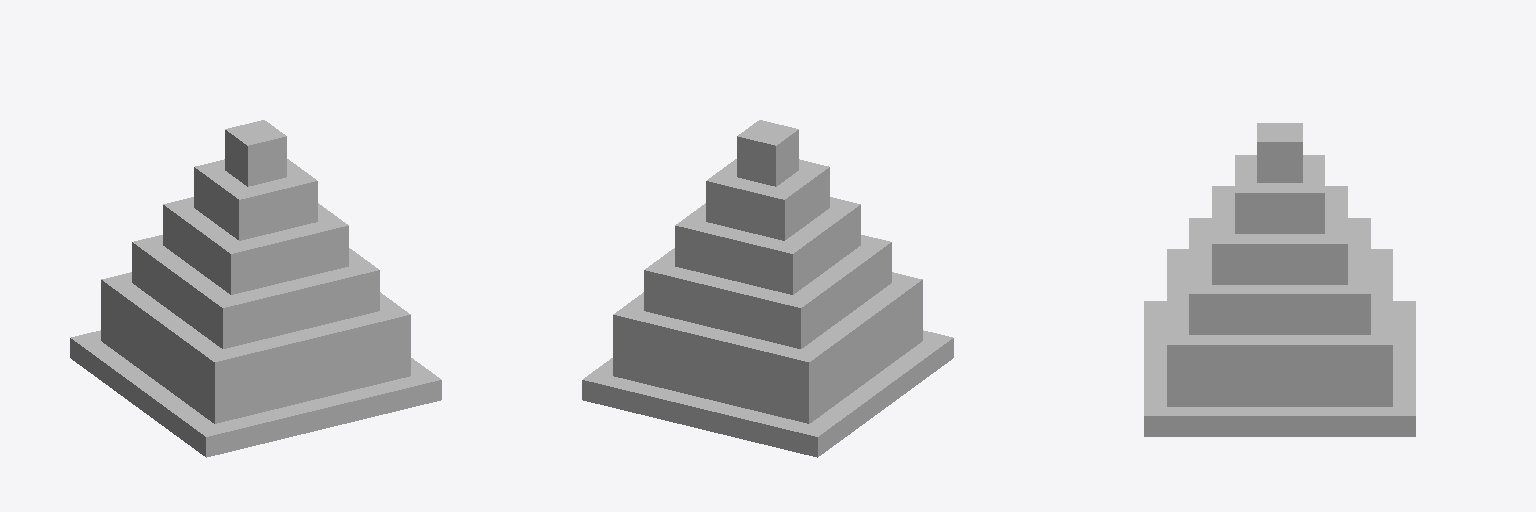
The model's file is plot.obj.
3 renders of one model, left to right at view 1: azimuth 30°, elevation 25°; view 2: azimuth 150°, elevation 25°; view 3: azimuth 270°, elevation 25°, orthographic.
Visible parts, largest first — view 1: object 1; view 2: object 1; view 3: object 1.
Part boxes in pixels (x1,y1,x2,y2): object 1: (70, 120, 441, 457); object 1: (582, 120, 953, 457); object 1: (1144, 123, 1415, 436).
Bounding box in the file's own units: 1.2 × 1.2 × 1.2.